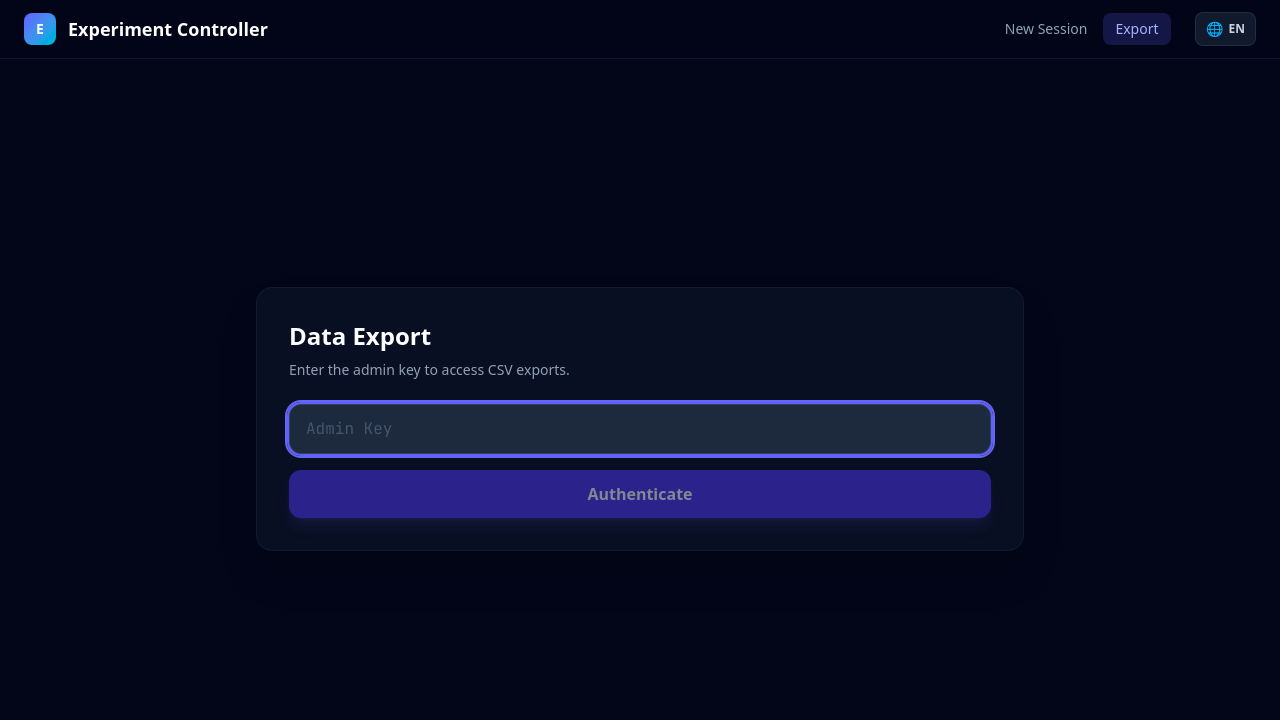
Test: Export Page › Authentication Gate › shows error with invalid admin key
In the password field with id "admin-key-input": (640, 429) [289,404,991,454], type "wrong-key-xyz"
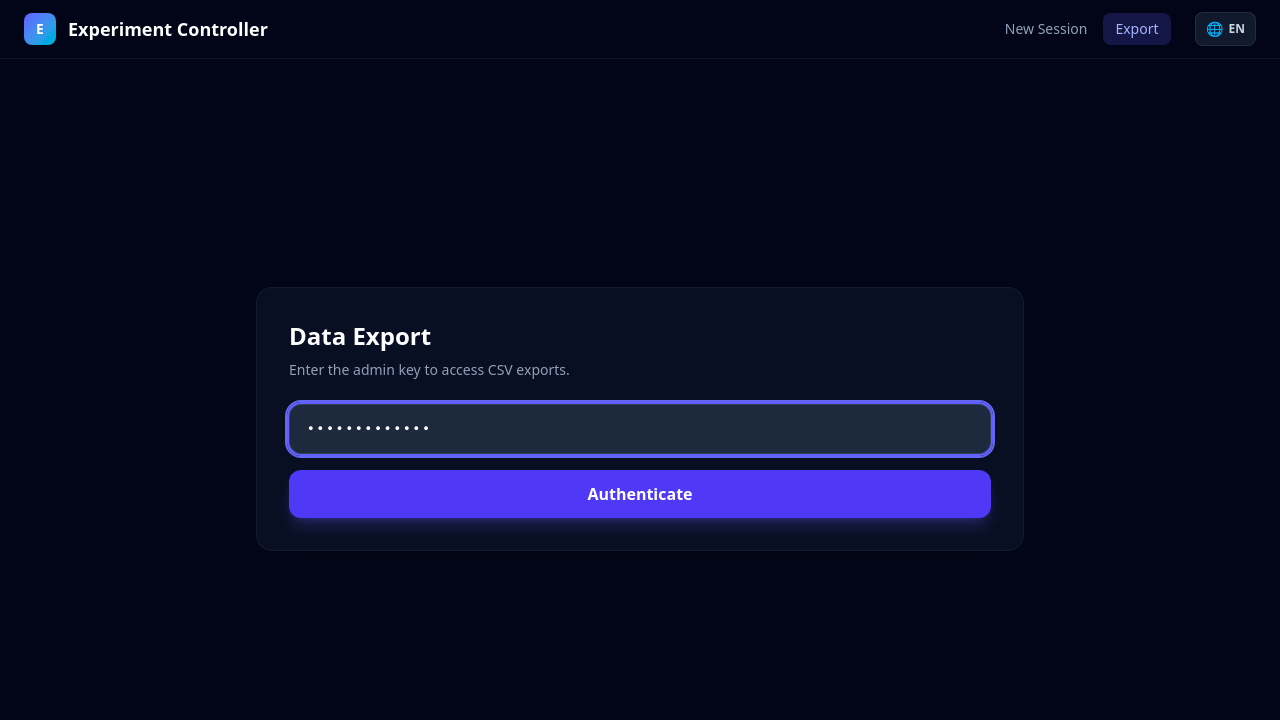
Click the button with id "auth-btn": (640, 494) [289,470,991,518]
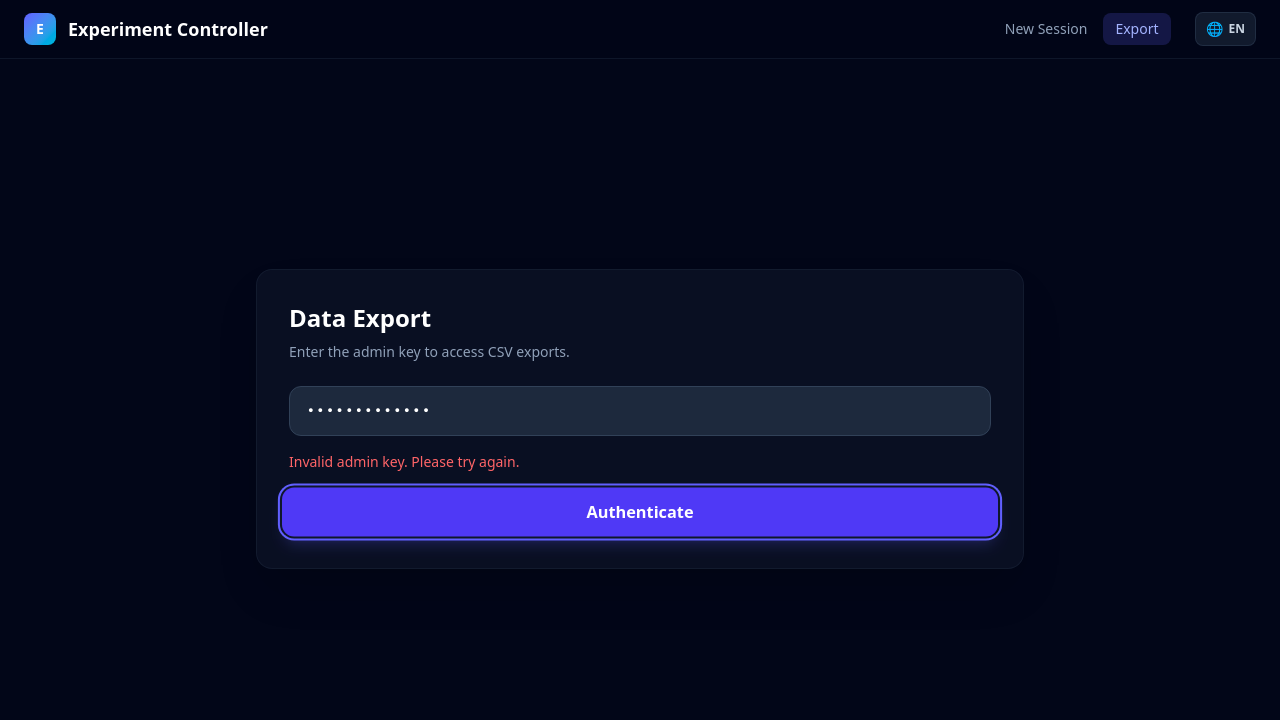
Result: the text "Invalid admin key" is shown at [289,452,519,471]
